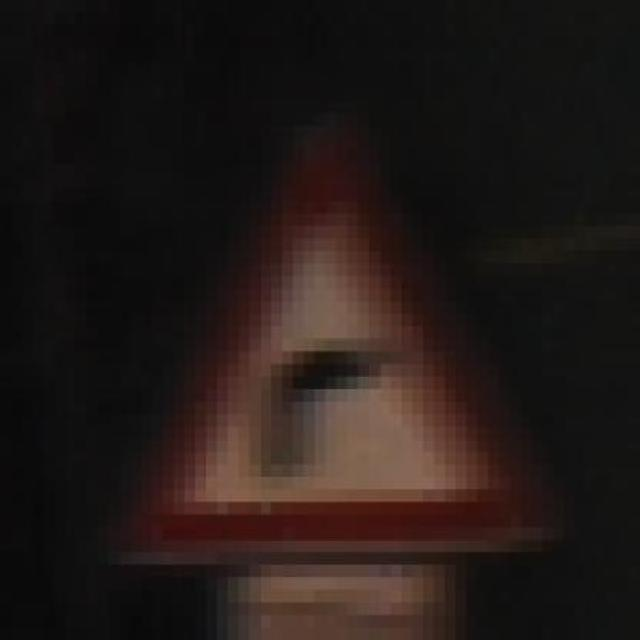Dangerous Rright Curve Ahead: (87, 112, 553, 552)
